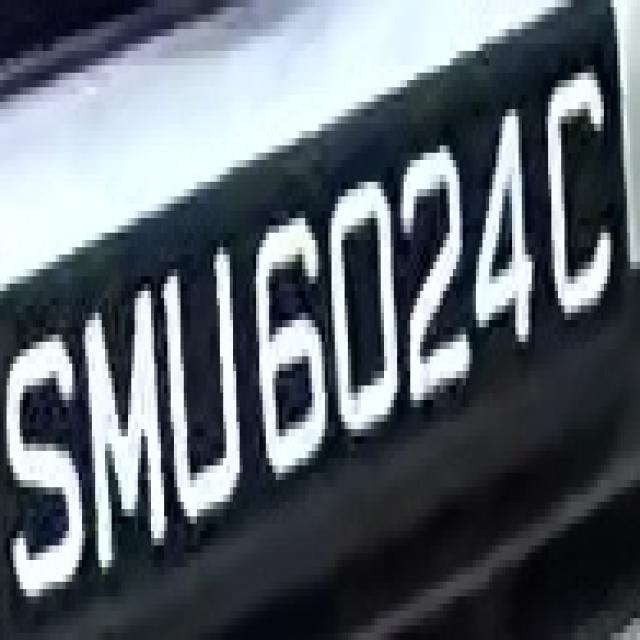0: (318, 167, 404, 473)
2: (387, 123, 476, 414)
4: (466, 73, 548, 385)
6: (249, 189, 325, 502)
C: (535, 65, 614, 342)
M: (76, 284, 164, 589)
S: (6, 320, 86, 618)
U: (161, 247, 249, 538)
